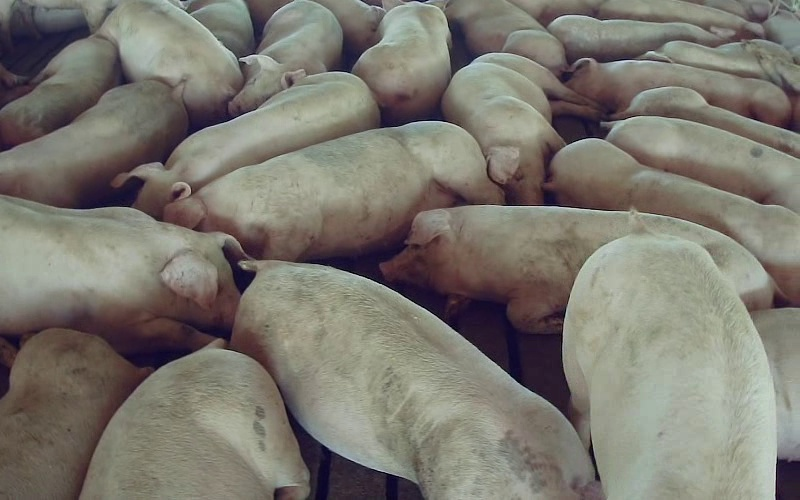pig: (231, 260, 593, 499), (563, 234, 776, 499), (380, 205, 774, 333), (164, 121, 503, 260), (544, 139, 799, 305), (113, 72, 379, 217), (80, 339, 308, 499), (0, 329, 150, 499), (442, 53, 601, 204), (0, 80, 188, 207), (606, 116, 799, 213), (95, 0, 243, 126), (565, 58, 790, 126), (0, 36, 121, 148), (609, 86, 799, 157), (228, 0, 342, 115), (352, 0, 450, 124), (445, 0, 567, 75), (547, 15, 734, 62), (639, 39, 799, 93), (597, 0, 763, 38)
